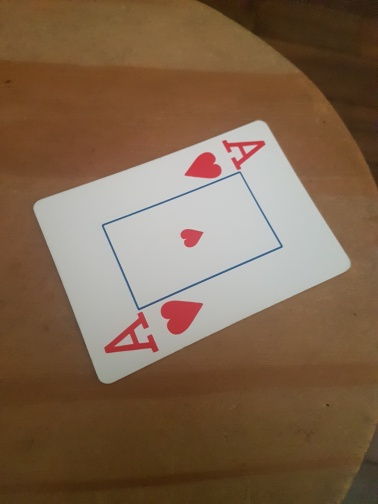ace: (36, 119, 351, 383)
